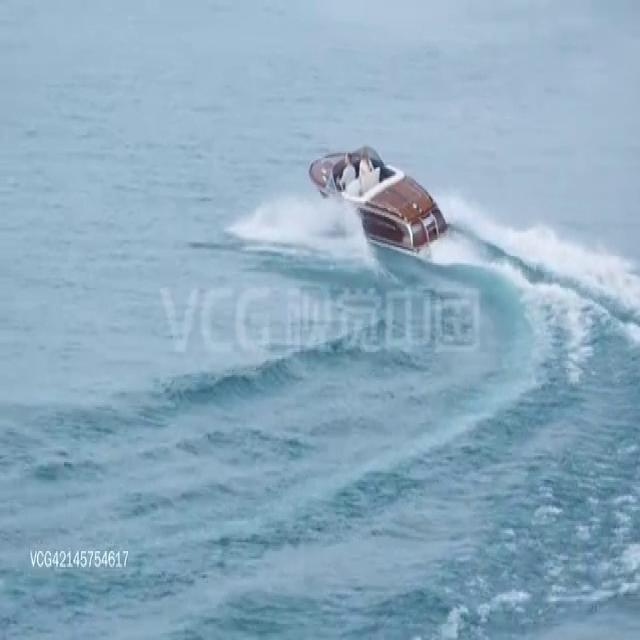houseboat: (310, 140, 448, 258)
